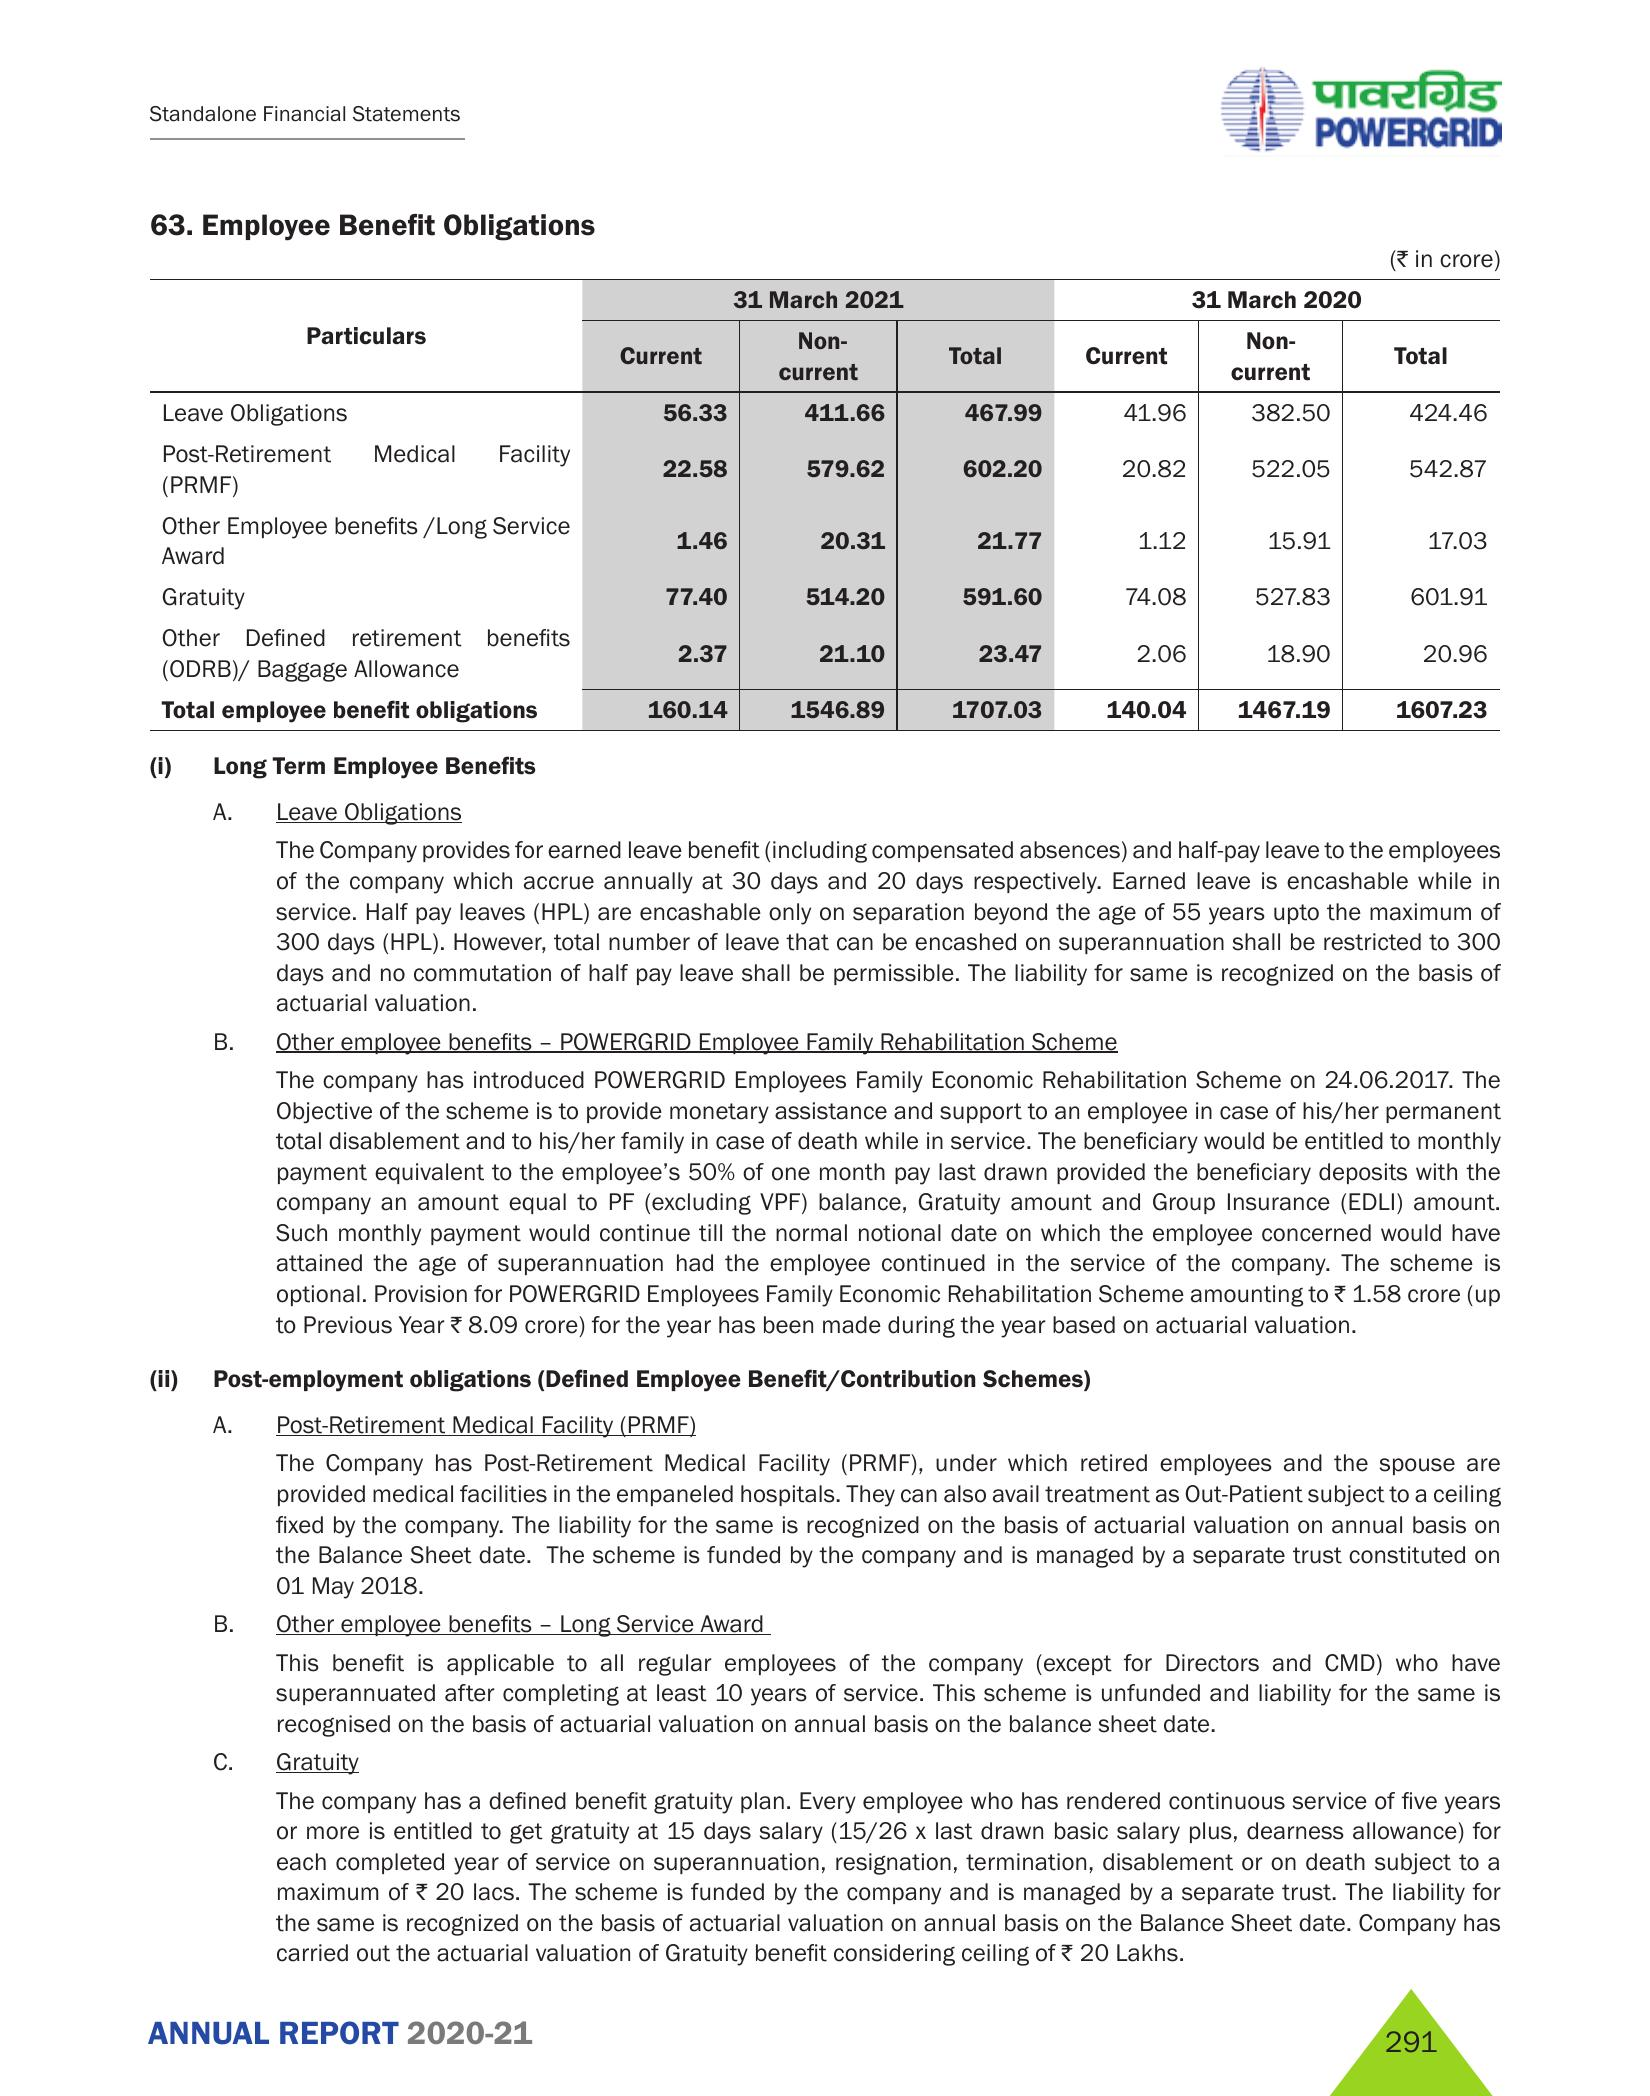Footer: (0, 1968, 1650, 2096)
Header: (0, 0, 1650, 172)
Table: (134, 274, 1524, 726)
